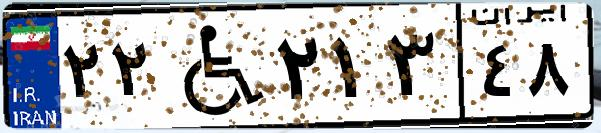1: (330, 28, 385, 110)
2: (270, 28, 330, 110), (57, 26, 110, 100), (110, 28, 158, 98)
3: (385, 28, 445, 110)
4: (475, 38, 525, 113)
8: (525, 38, 570, 115)
ژ (معلولین و جانبازان): (158, 12, 270, 120)
